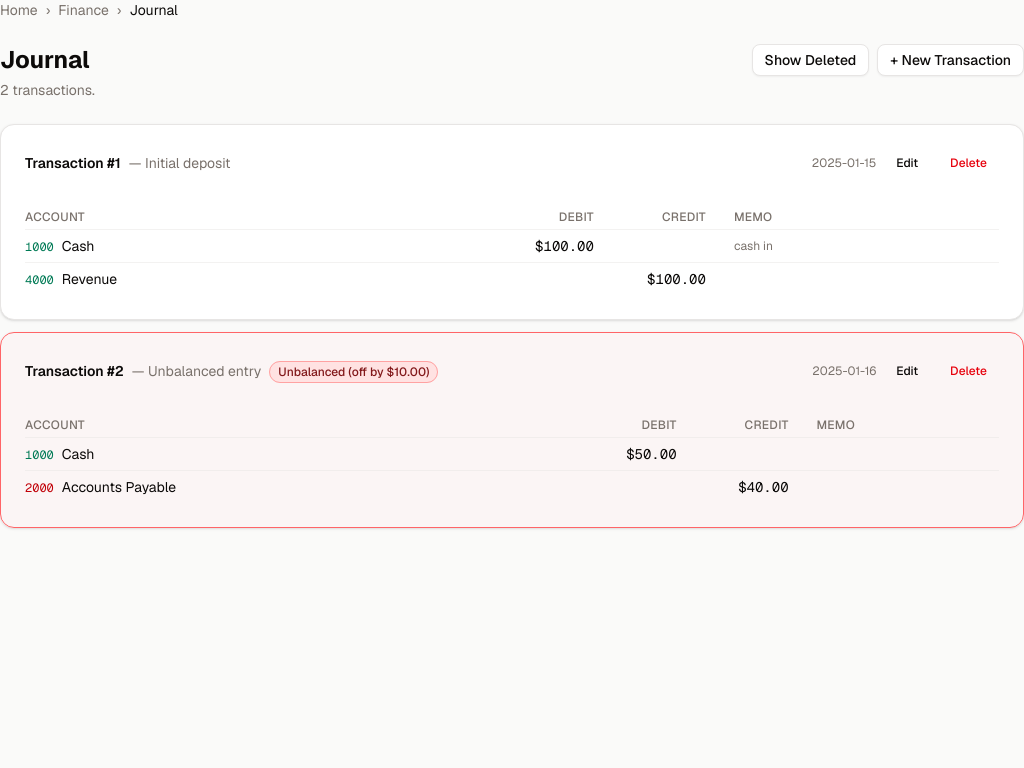
JournalPage › adds and removes edit lines
This screenshot has width=1024, height=768.
Expected: the link "Transaction #1" is shown, [25, 154, 121, 172]
Click the button "Edit" next to "2025-01-15". click: point(907, 163)
box: [884, 149, 930, 177]
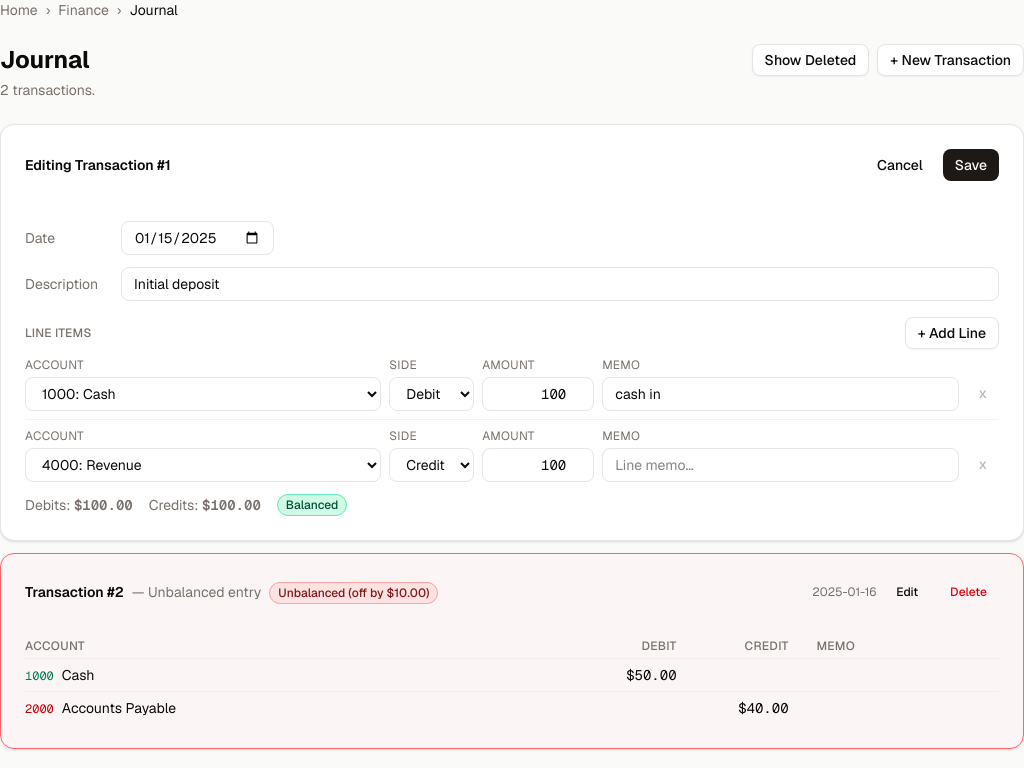
Expected: the 1st button "x" is disabled, [966, 377, 999, 409]
Expected: the number of buttons "x" is 2, [966, 377, 999, 409]; [966, 448, 999, 480]
// Add a new line
Click the button "+ Add Line". click: point(952, 333)
box: [905, 317, 999, 349]
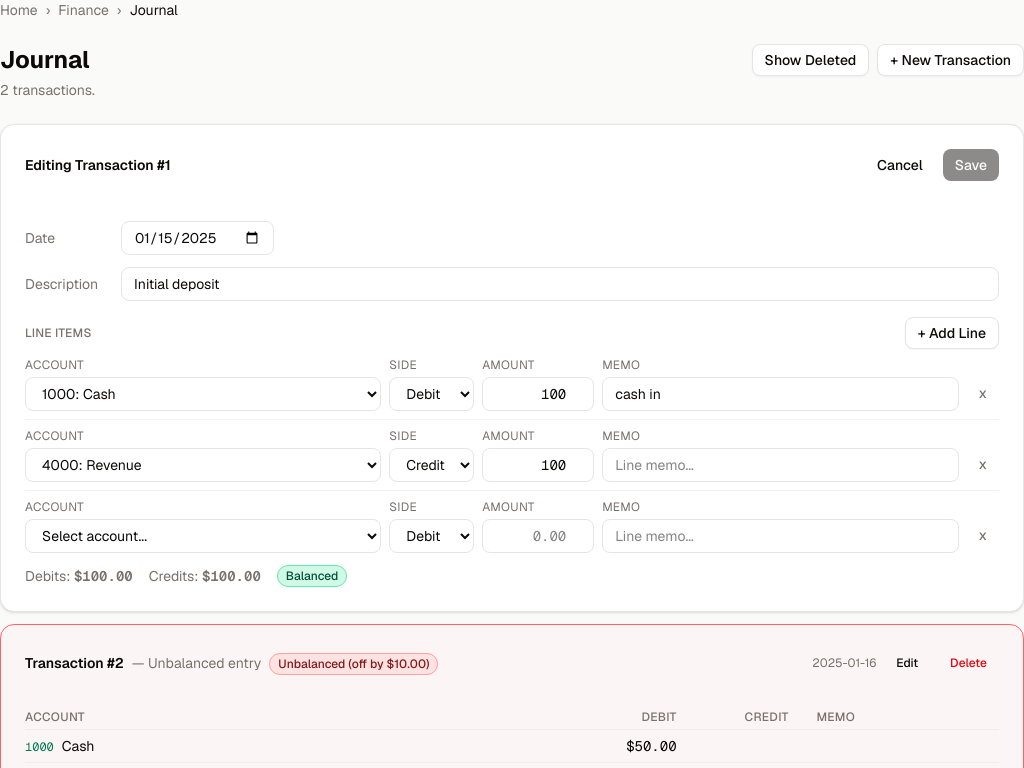
Expected: the 1st button "x" is enabled, [966, 377, 999, 409]
Expected: the number of buttons "x" is 3
// Remove the third line
Click the 3rd button "x". click: point(983, 535)
box: [966, 519, 999, 551]
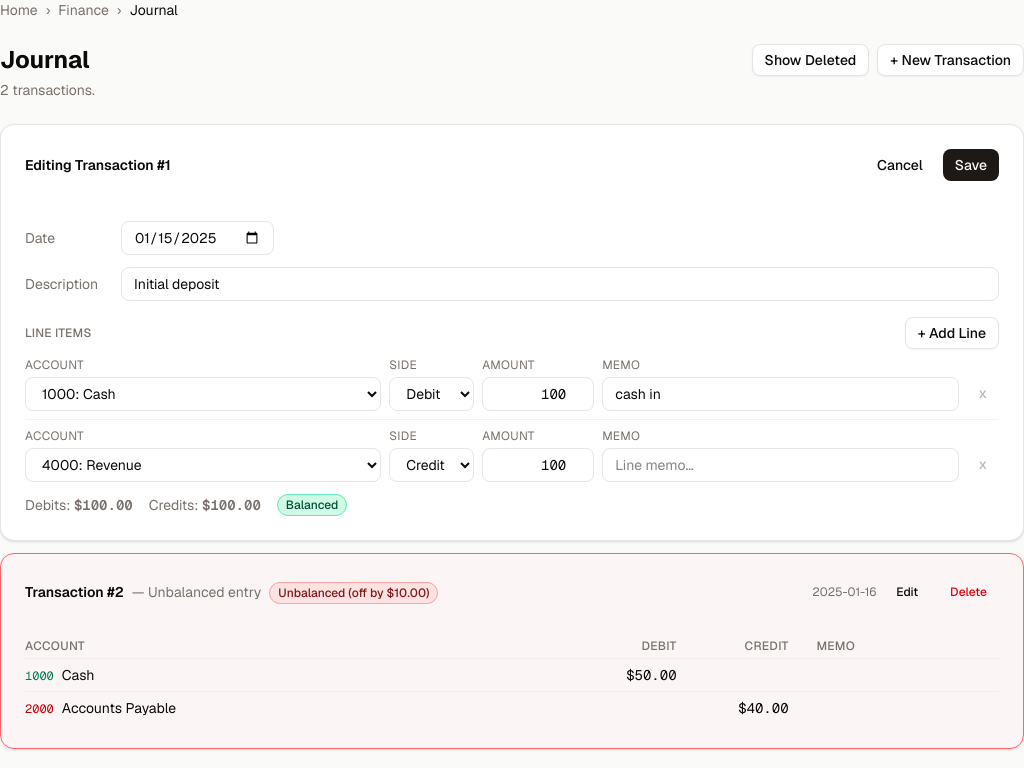
Expected: the number of buttons "x" is 2, [966, 377, 999, 409]; [966, 448, 999, 480]
